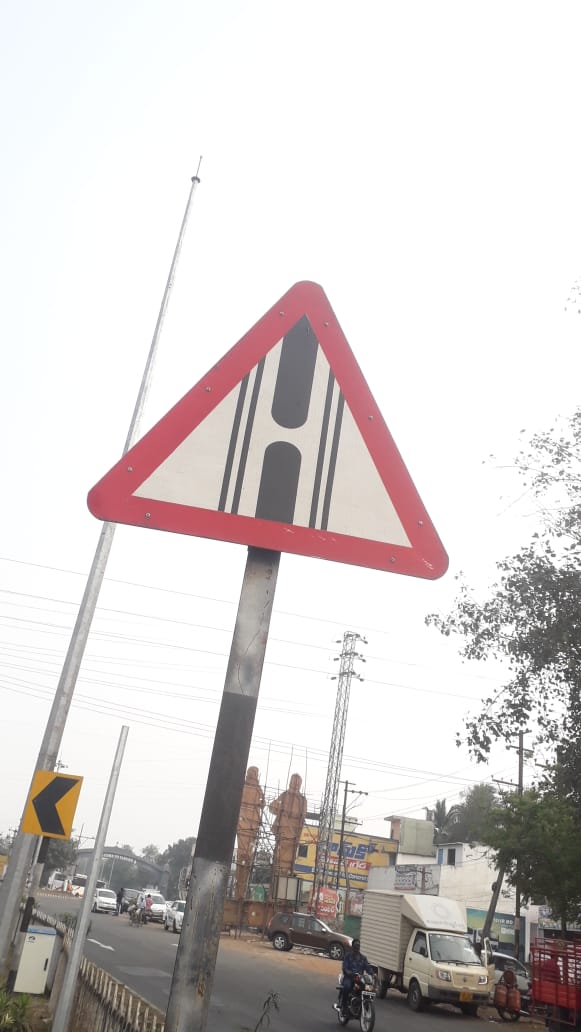highway go straight: (93, 241, 456, 604)
